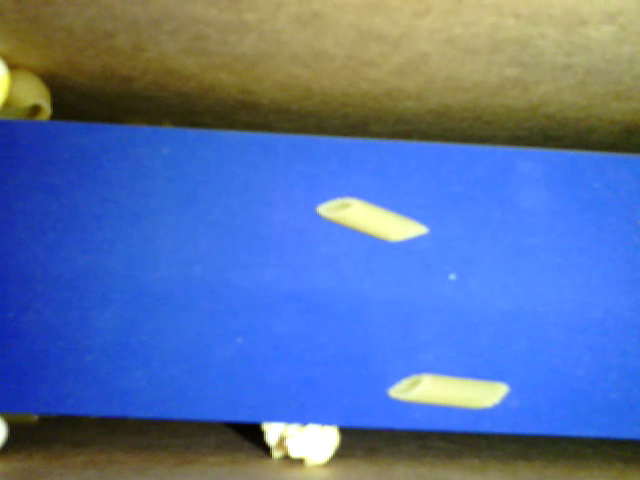penne: (311, 192, 431, 248), (389, 371, 511, 415)
shell: (4, 66, 58, 126)
